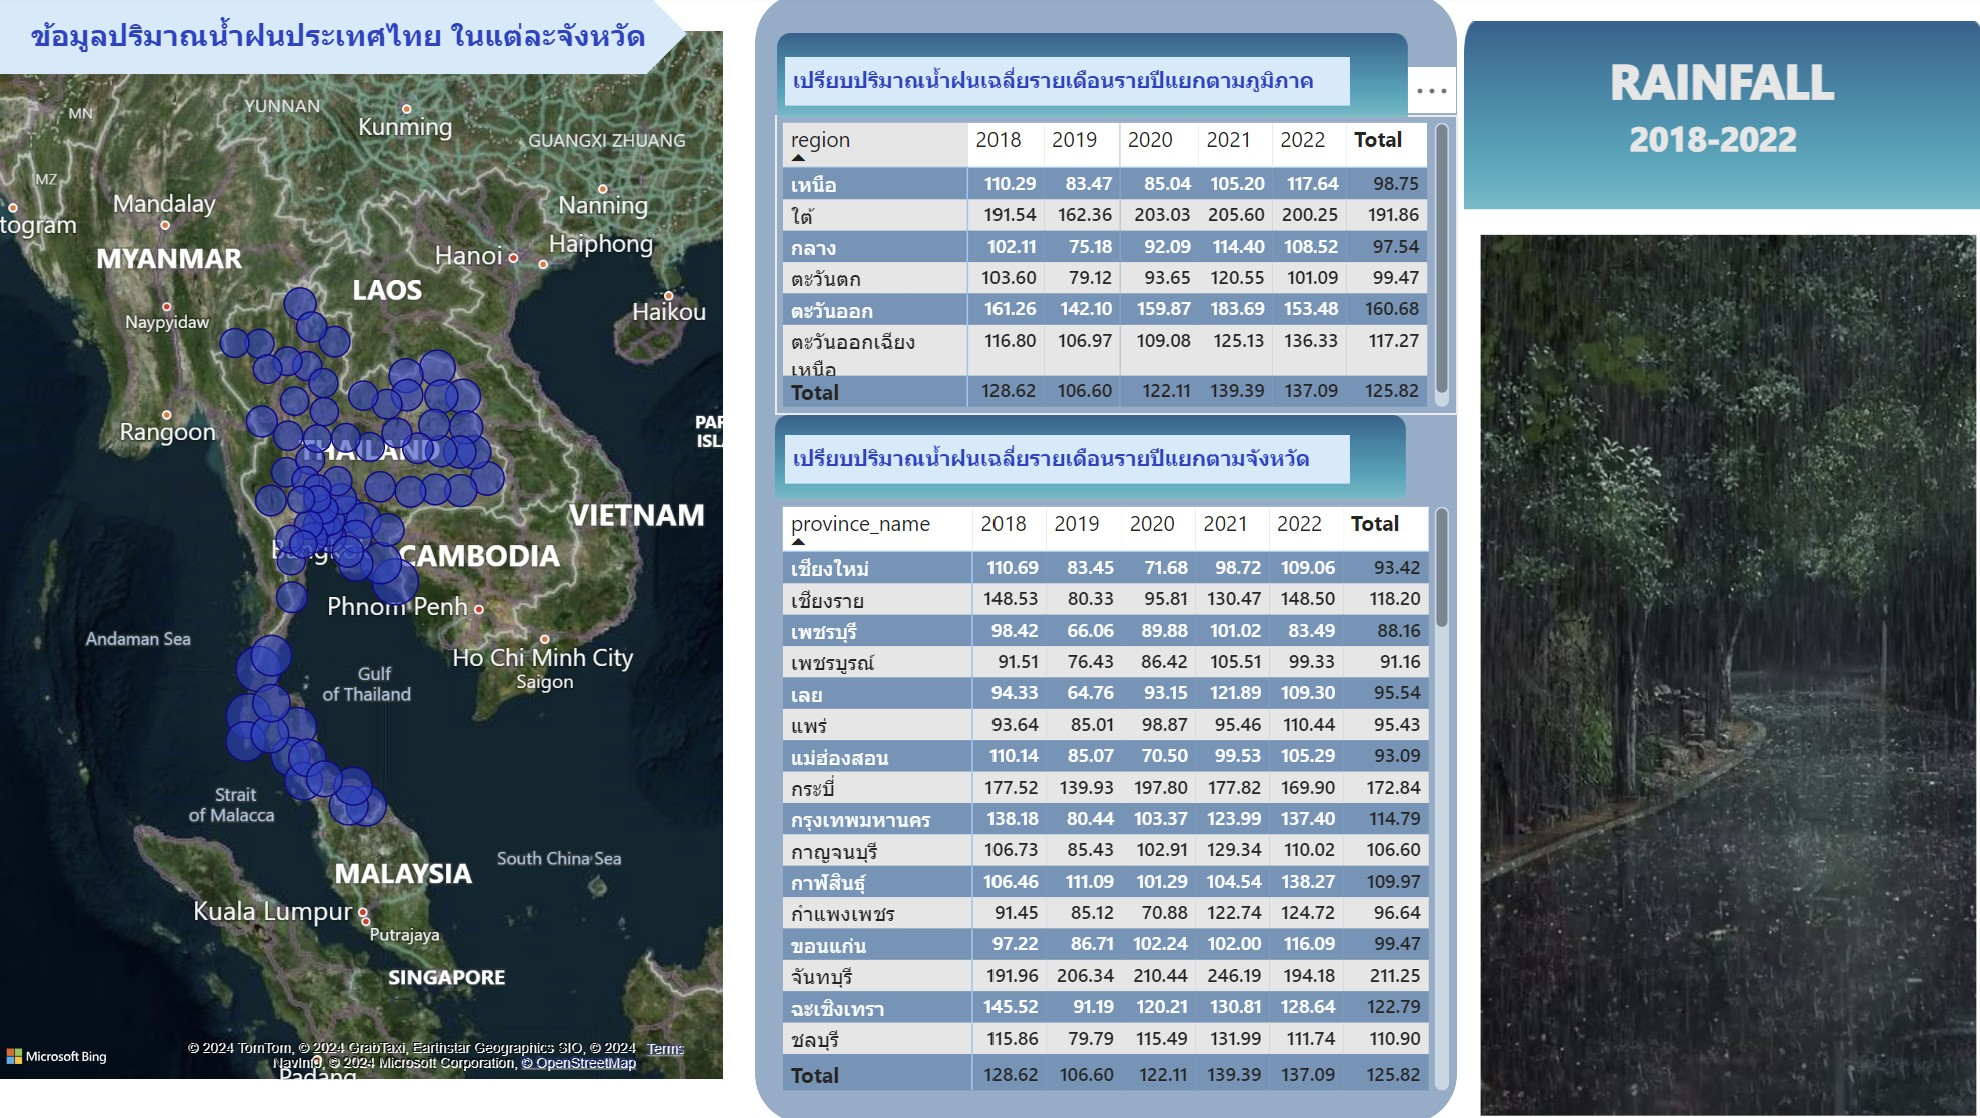

The page's visual inventory and layout, read from the dashboard file:
{"tool":"powerbi","page":{"name":"MAP","canvas":[1280,720],"ordinal":1},"visuals":[{"type":"shape","box":[497.1,0,446.9,720.6],"z":0},{"type":"map","fields":{"Category":["province.province_name"],"Size":["rainfall.#AVG_RAIN"]},"box":[10.2,0,471.7,697.4],"z":1000},{"type":"pivotTable","fields":{"Rows":["rainfall.region"],"Columns":["rainfall.year"],"Values":["rainfall.#AVG_RAIN"]},"box":[510.4,78.3,434,191.1],"z":2000},{"type":"shape","box":[9.7,0,443.7,51.8],"z":3000},{"type":"image","box":[511.7,25.9,401.6,53.4],"z":4000},{"type":"textbox","box":[516.5,40.5,359.5,30.8],"z":5000},{"type":"pivotTable","fields":{"Columns":["rainfall.year"],"Values":["rainfall.#AVG_RAIN"],"Rows":["province.province_name"]},"box":[510.4,322.8,434,382.1],"z":6000},{"type":"image","box":[510.1,268.8,401.6,53.4],"z":7000},{"type":"textbox","box":[516.5,281.7,359.5,30.8],"z":8000},{"type":"image","box":[953.7,149,327.1,571.6],"z":8001},{"type":"image","box":[948.9,17.8,331.9,119.8],"z":8002},{"type":"textbox","title":"RAINFALL","box":[1036.3,34,181.4,93.9],"z":8003},{"type":"textbox","title":"2018-2022","box":[1049.3,77.7,181.4,93.9],"z":8004}]}

Visuals, with their boxes in screenshot pixels (x1, y1, x2, y2), scaled from the page's 1280x720 canvas onto the 1980x1118 screenshot:
shape: 769 0 1460 1117
map - province.province_name x rainfall.#AVG_RAIN: 16 0 745 1083
pivotTable - rainfall.region x rainfall.year: 790 122 1461 418
shape: 15 0 701 80
image: 792 40 1413 123
textbox: 799 63 1355 111
pivotTable - rainfall.year x rainfall.#AVG_RAIN: 790 501 1461 1095
image: 789 417 1410 500
textbox: 799 437 1355 485
image: 1475 231 1979 1117
image: 1468 28 1979 214
"RAINFALL" textbox: 1603 53 1884 199
"2018-2022" textbox: 1623 121 1904 266
